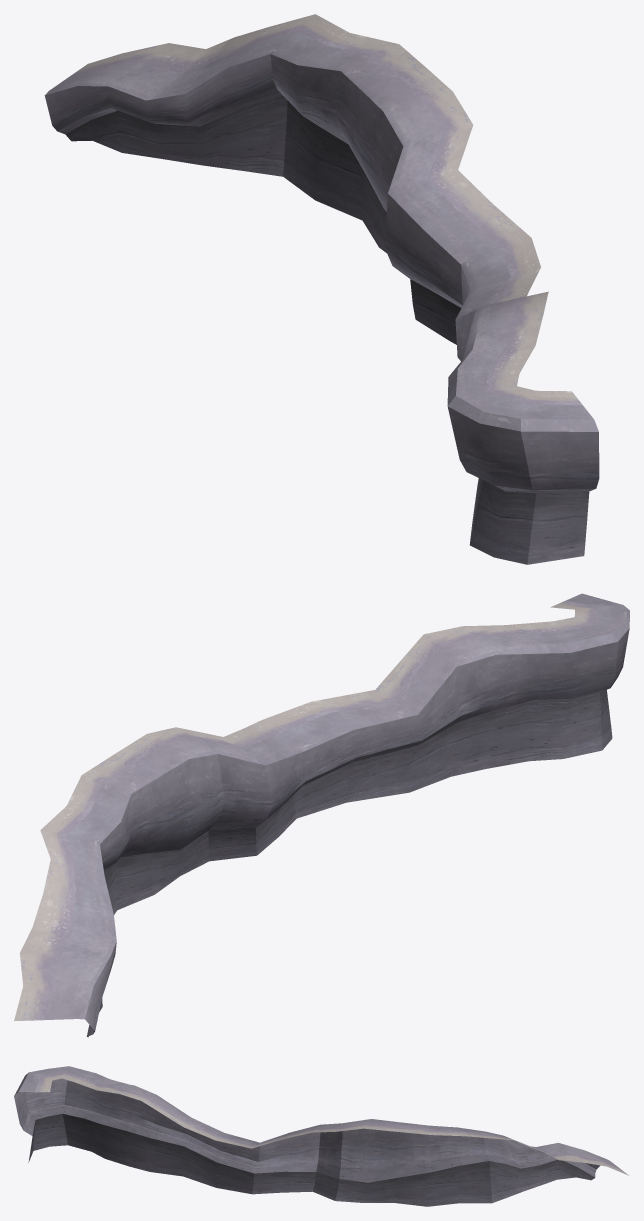
File: end_wall.fbx
The picture shows the model from 3 angles, top to bottom: view 1: azimuth 30°, elevation 25°; view 2: azimuth 150°, elevation 25°; view 3: azimuth 270°, elevation 25°; orthographic projection. The views are drawn at different scales.
Parts seen in each view (by area): view 1: end wall; view 2: end wall; view 3: end wall.
Boxes of the visible parts, left/top/right/bottom form: end wall: left=44, top=14, right=599, bottom=564; end wall: left=14, top=593, right=629, bottom=1037; end wall: left=14, top=1066, right=629, bottom=1206.
Bounding box in the file's own units: 2598 × 1413 × 8825.
